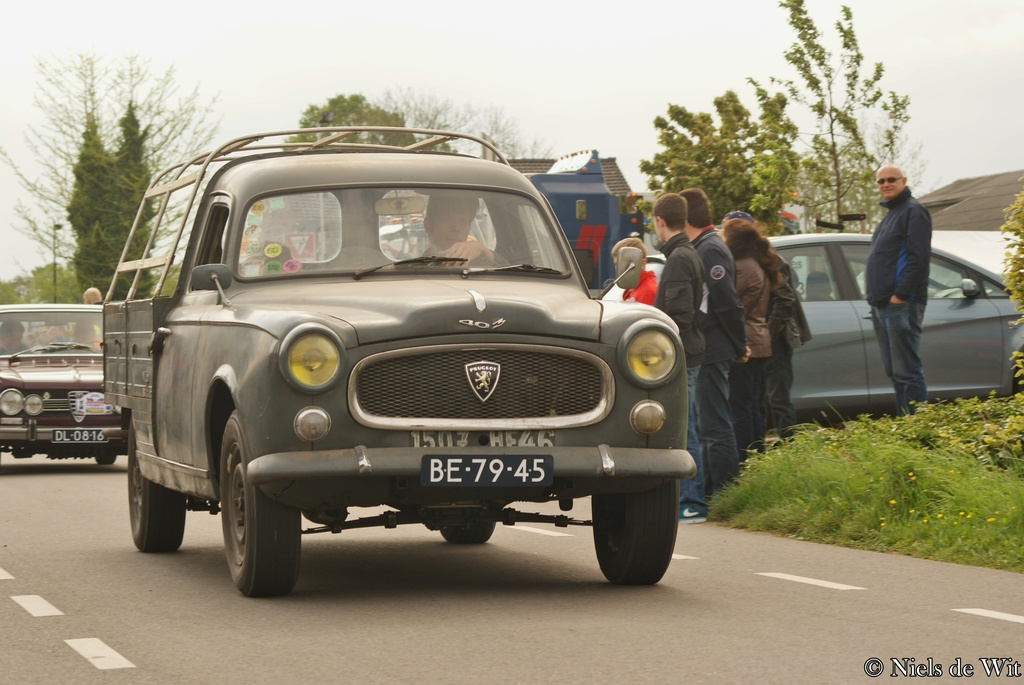Car: (771, 227, 1023, 428), (0, 301, 119, 462)
